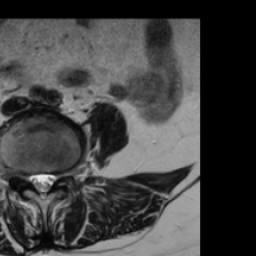CCS_normal: (38, 163, 46, 205)
LFS_stenosis: (55, 163, 64, 190)
LLS_normal: (46, 165, 55, 197)
RFS_severe_stenosis: (20, 165, 30, 190)
RLS_normal: (30, 165, 38, 191)
